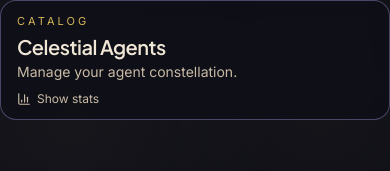
CompactPageHeader › toggles stats visibility on mobile when toggle is clicked
The width and height of the screenshot is (390, 171).
// Click to show
Click the button "Show stats" at x=58, y=99, box [17, 91, 99, 107]
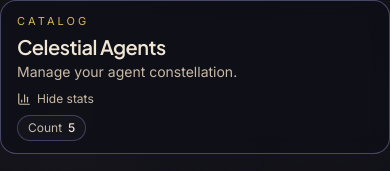
Now the button "Hide stats" is expanded
// Click to hide again
Click the button "Hide stats" at x=55, y=99, box [17, 91, 94, 107]
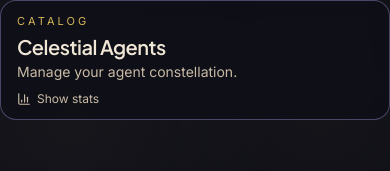
Now the button "Show stats" is collapsed, box [17, 91, 99, 107]
